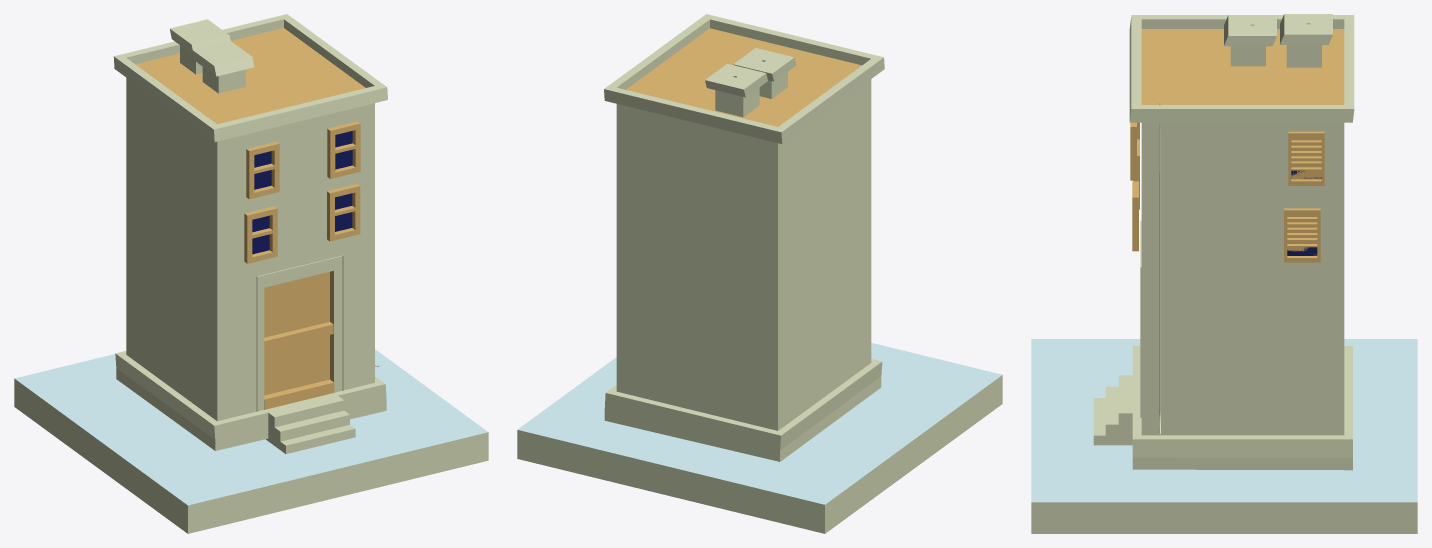
The picture shows the model from 3 angles, left to right: view 1: azimuth 30°, elevation 25°; view 2: azimuth 150°, elevation 25°; view 3: azimuth 270°, elevation 25°; orthographic projection. The views are drawn at different scales.
Visible parts, largest first — view 1: Cylinder; view 2: Cylinder; view 3: Cylinder.
Part boxes in pixels (x1,y1,x2,y2): Cylinder: [14, 14, 488, 533]; Cylinder: [517, 14, 1002, 533]; Cylinder: [1031, 14, 1417, 533].
Size of the model in its own units: 2.72 by 2.72 by 3.26.
